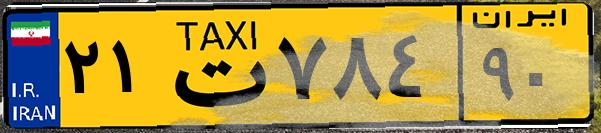0: (525, 38, 570, 115)
1: (110, 28, 158, 98)
2: (57, 26, 110, 100)
4: (385, 28, 445, 110)
7: (270, 28, 330, 110)
8: (330, 28, 385, 110)
9: (475, 38, 525, 113)
ت: (158, 12, 270, 120)
